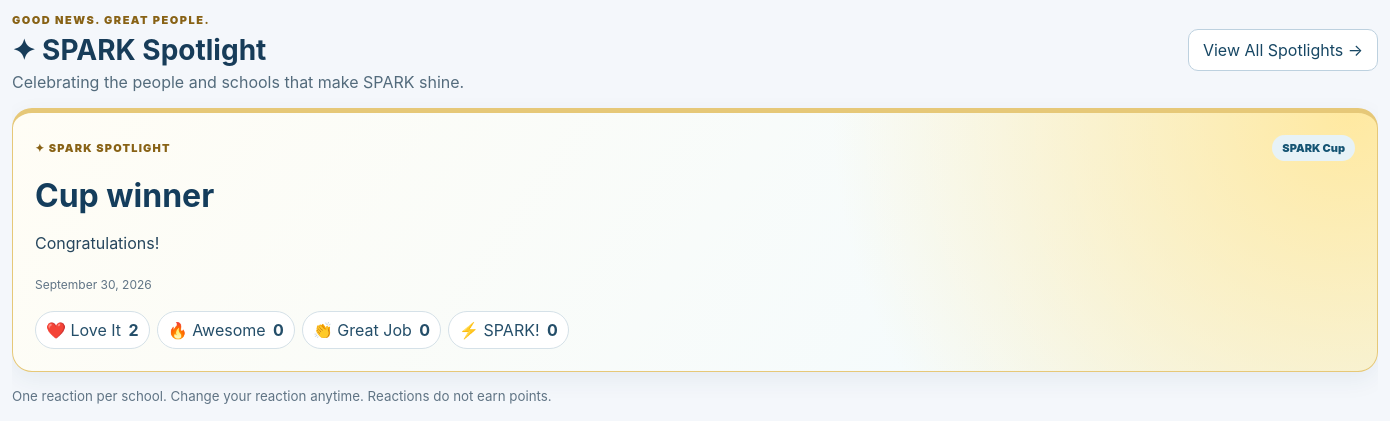
it: manager feed requests three posts, has no publishing controls, and updates reaction counts
Later steps or results of the test are not shown.
What coordinates should you click on to do the following:
click the button "❤️ Love It 2"
I would click on:
 (92, 330)
Its box is [35,311,150,349].
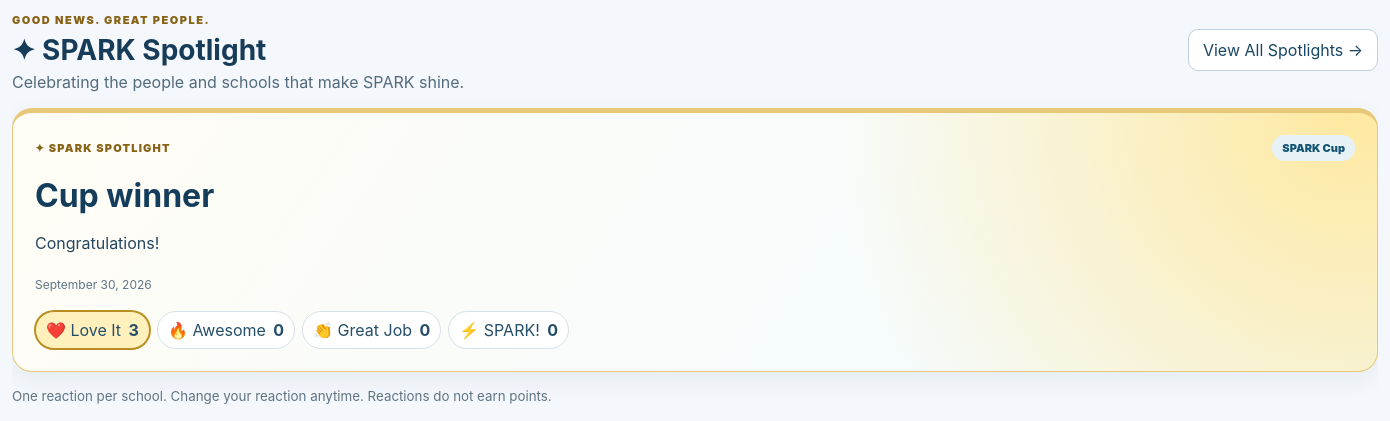
Result: the text "3" is shown at [129,320,139,340]
